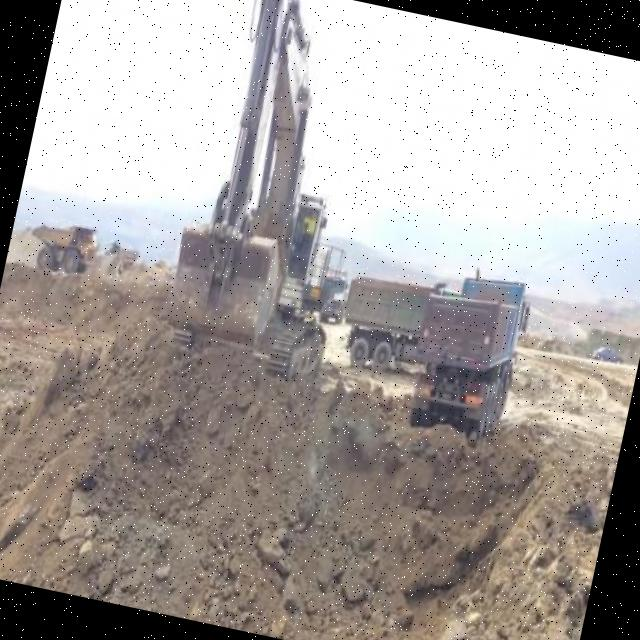Dump Truck: (403, 266, 535, 443), (335, 271, 432, 372), (26, 212, 99, 274)
Excavator: (145, 0, 400, 398)
